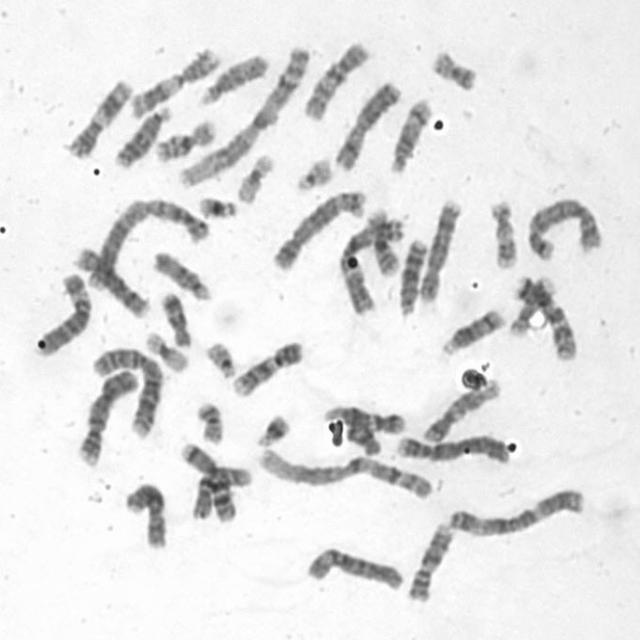A1: (172, 39, 312, 190), (252, 439, 436, 503)
A2: (80, 190, 210, 293), (84, 338, 165, 440)
A3: (441, 479, 588, 539), (332, 210, 406, 318)
B4: (71, 360, 141, 468), (390, 427, 511, 465)
B5: (266, 182, 368, 272), (520, 190, 606, 261)
C10: (297, 32, 372, 123), (186, 458, 254, 522)
C11: (124, 40, 222, 120), (60, 71, 134, 160)
C12: (416, 373, 504, 445), (318, 398, 407, 435)
C6: (29, 264, 93, 357), (300, 538, 405, 593)
C7: (508, 268, 580, 362), (173, 434, 238, 525)
C8: (69, 239, 151, 319), (413, 192, 464, 304)
C9: (226, 332, 306, 398), (401, 514, 456, 604)
D13: (108, 96, 174, 170), (393, 231, 430, 318)
D14: (434, 300, 508, 358), (384, 90, 434, 174)
D15: (193, 46, 271, 106), (146, 243, 214, 302)
E16: (148, 111, 218, 163), (361, 200, 402, 278)
E17: (503, 269, 558, 338), (484, 191, 520, 270)
E18: (154, 284, 193, 349), (342, 416, 384, 457)
F19: (139, 323, 192, 375), (231, 146, 277, 204)
F20: (424, 41, 480, 92), (191, 394, 226, 446)
G21: (250, 405, 292, 448), (193, 188, 239, 220)
G22: (289, 149, 335, 193), (199, 332, 238, 380)
X: (329, 73, 403, 172), (118, 474, 170, 550)
